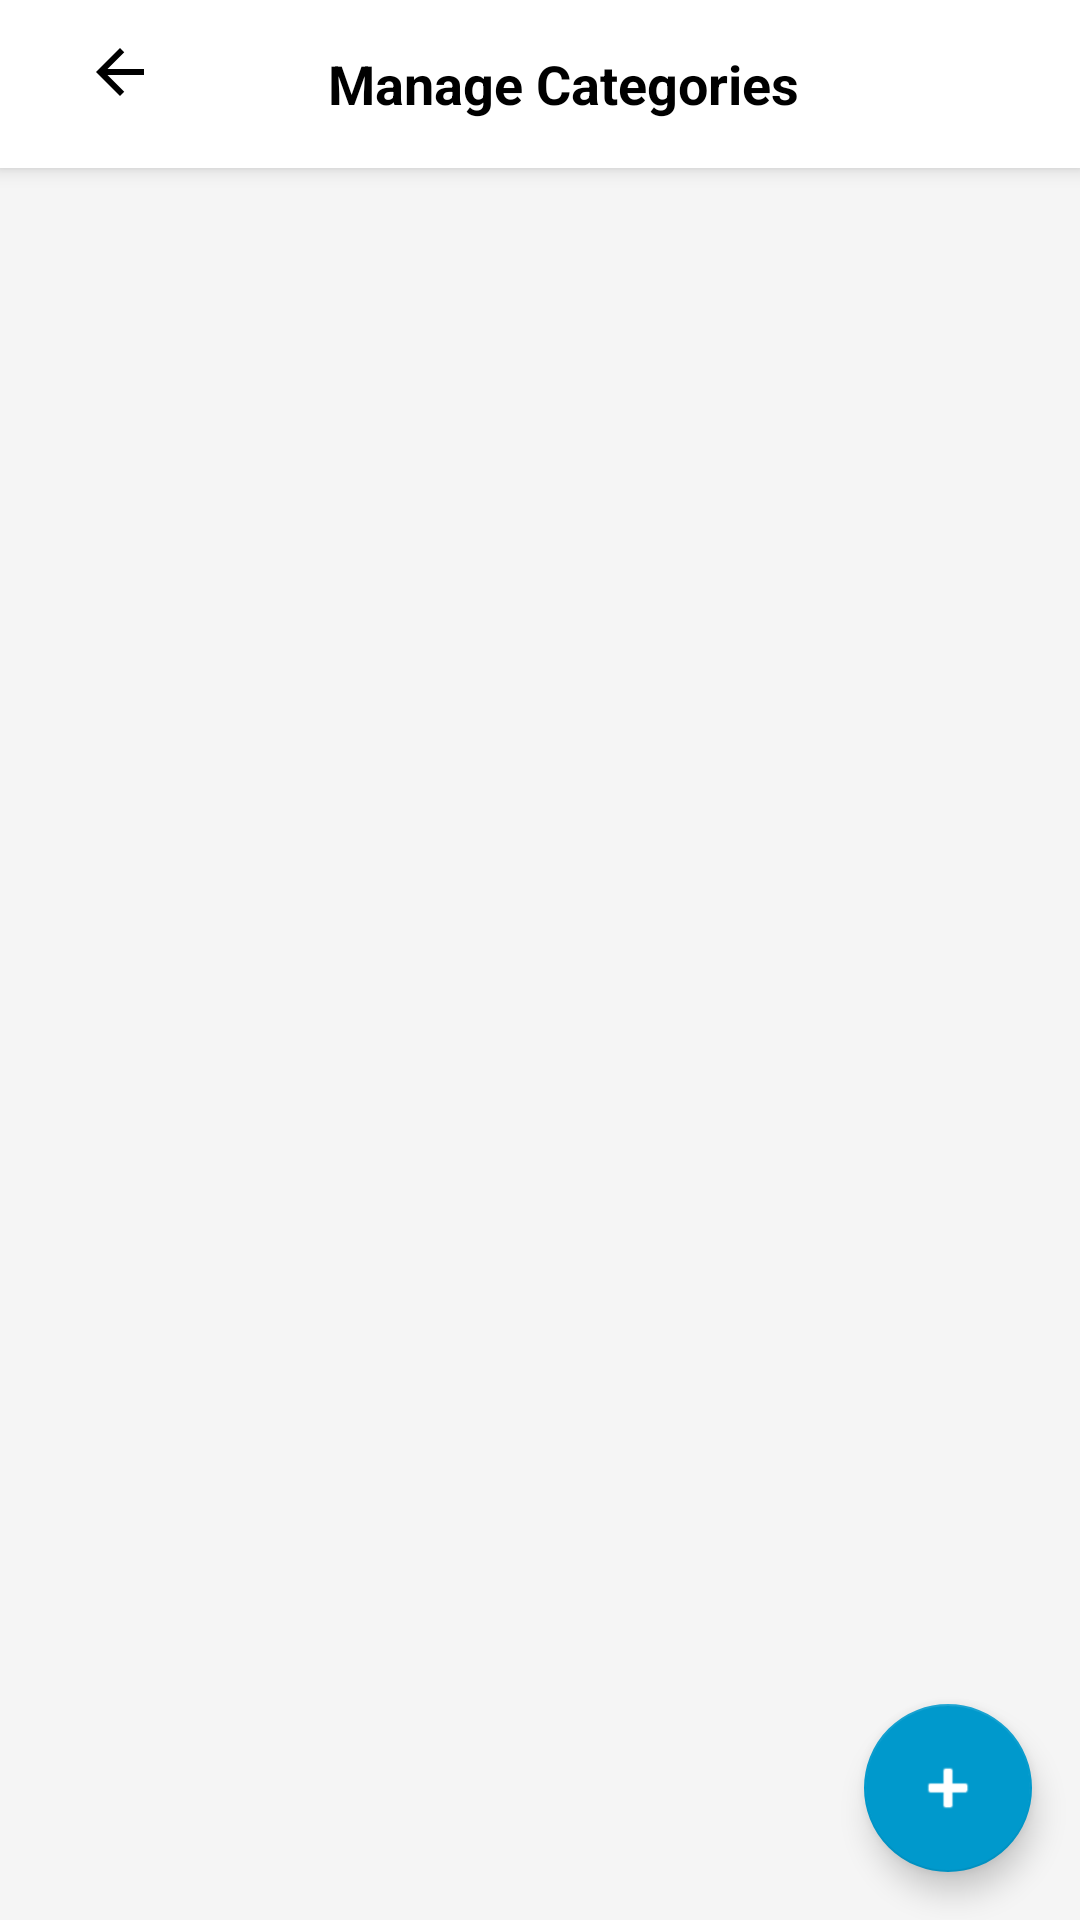

Screen size 1080px x 1920px. Icon name, then its box in pixels as (x1, y1, x2, y2):
add: (864, 1704, 1032, 1872)
arrow back: (96, 48, 144, 96)
